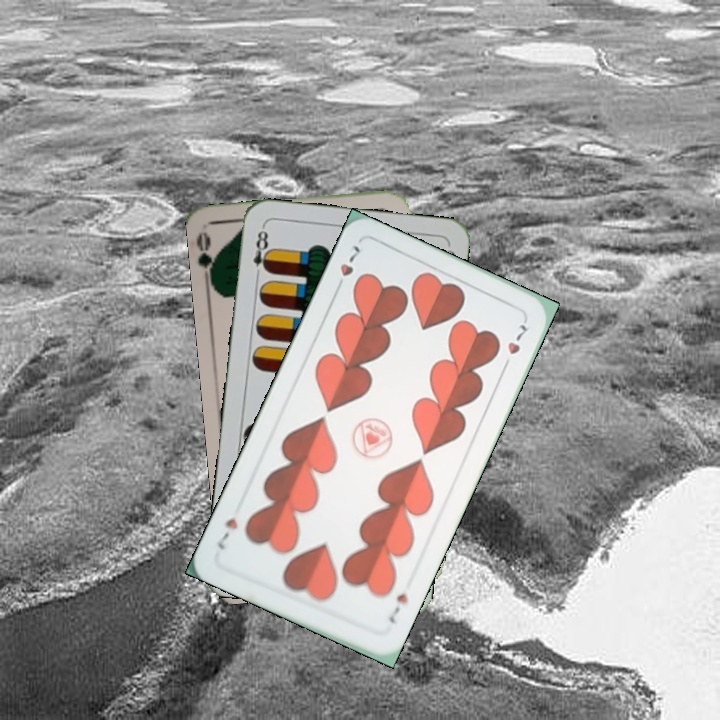E8: (249, 223, 274, 282)
GO: (193, 230, 222, 289)
H7: (331, 241, 363, 295), (383, 589, 411, 628)
